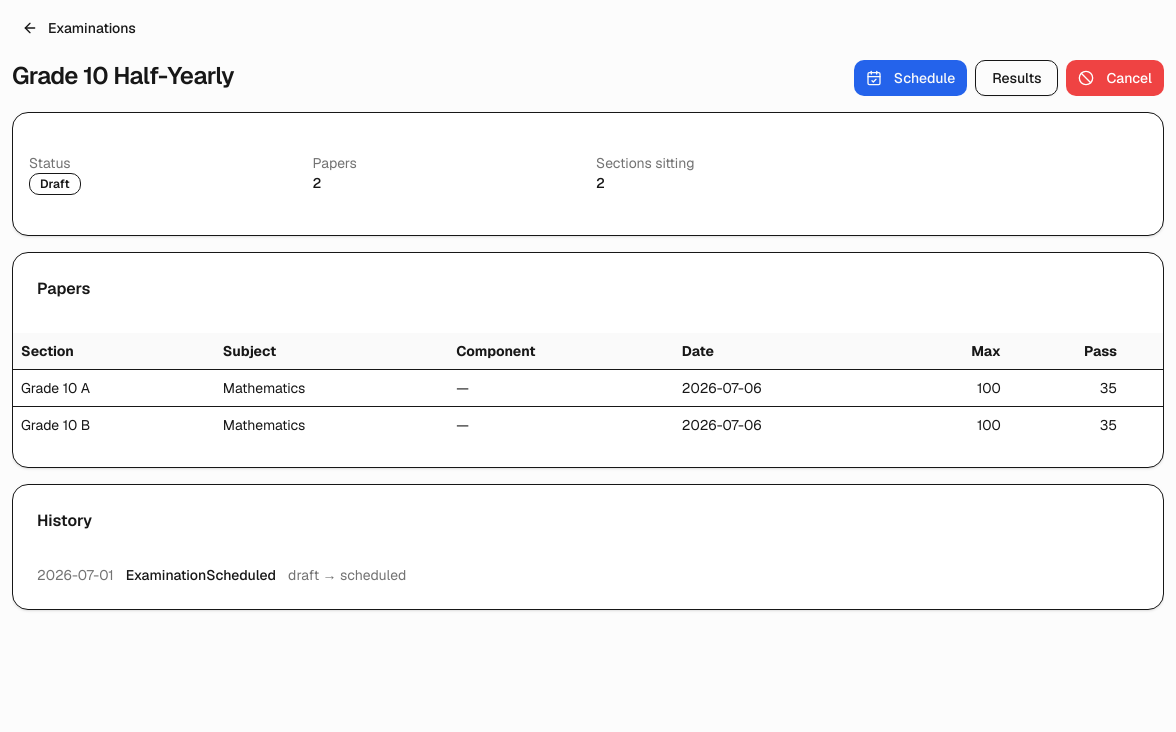
Scenario: examination detail › shows the server's refusal when scheduling fails
Click the button "Schedule": [911, 78] box [854,60,967,96]
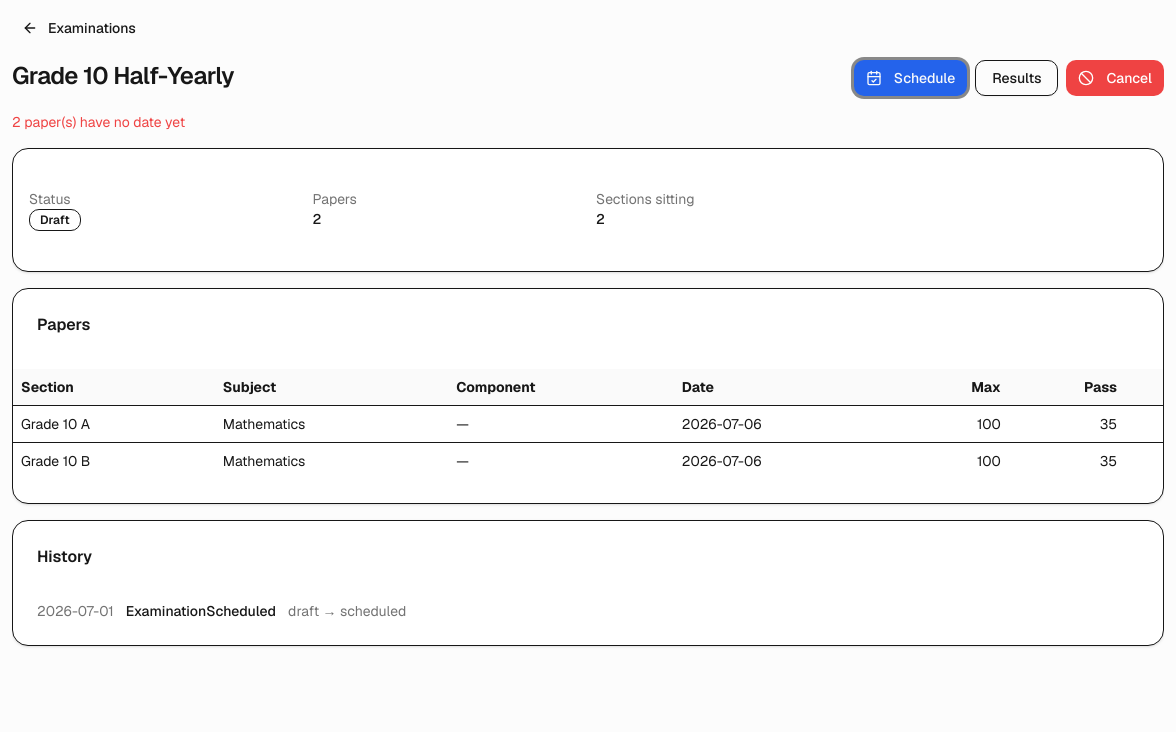
Now the message reads "2 paper(s) have no date yet", box [12,113,185,131]
